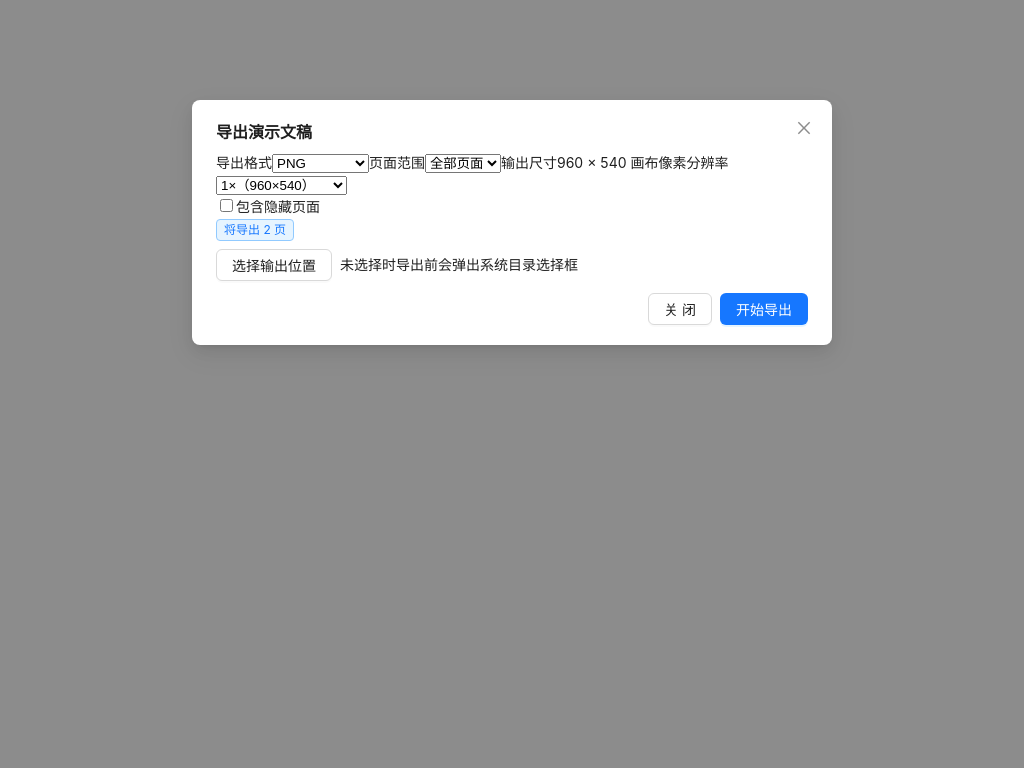
Test: PDF 才显示讲义与备注选项
Select "PDF" in the dropdown labelled "导出格式": x=320, y=164 [272,154,369,173]
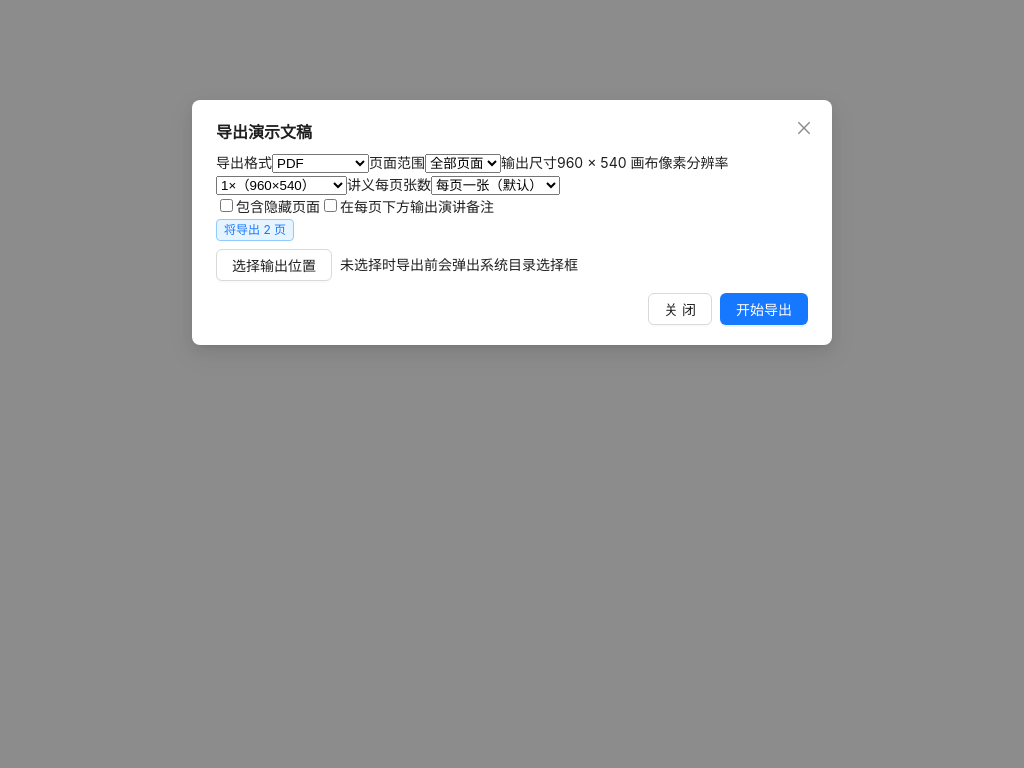
Check: the dropdown labelled "讲义每页张数" is shown, box [431,176,560,195]
Check: the text "在每页下方输出演讲备注" is shown, box [320,198,494,215]
Select "图片型PPTX" in the dropdown labelled "导出格式": x=320, y=164 [272,154,369,173]
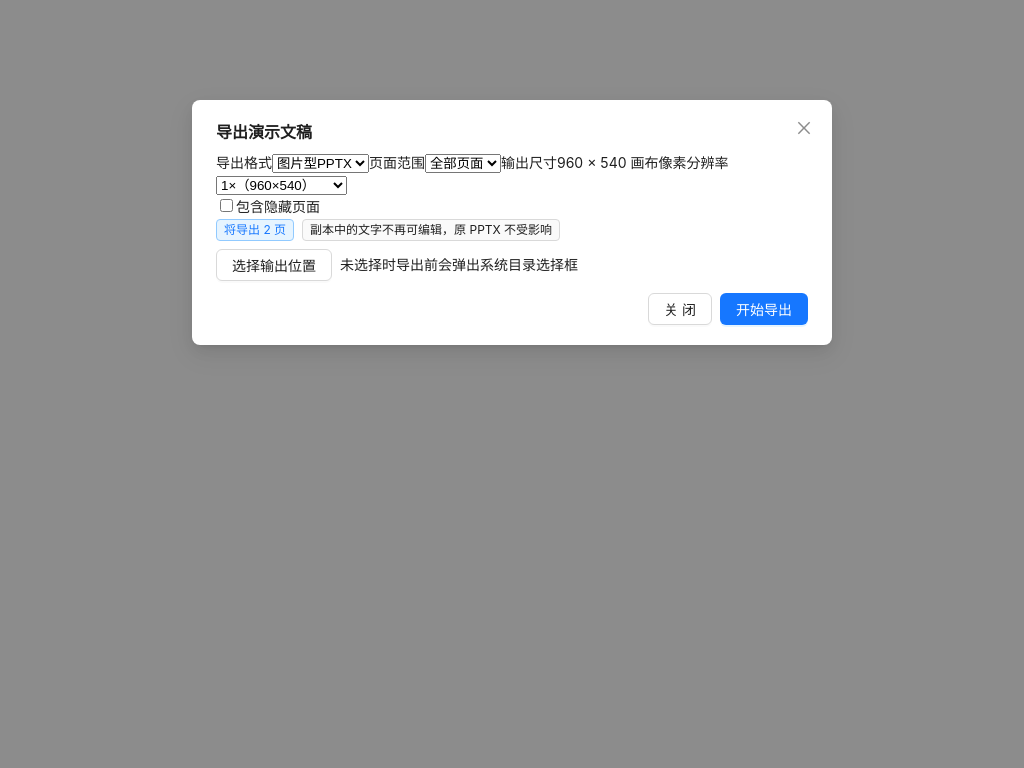
Check: the label labelled "讲义每页张数" is gone
Check: the text "副本中的文字不再可编辑，原 PPTX 不受影响" is shown, box [302,219,560,241]
